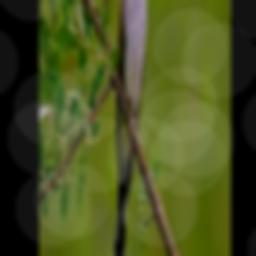Cuckoo: (110, 0, 161, 256)
